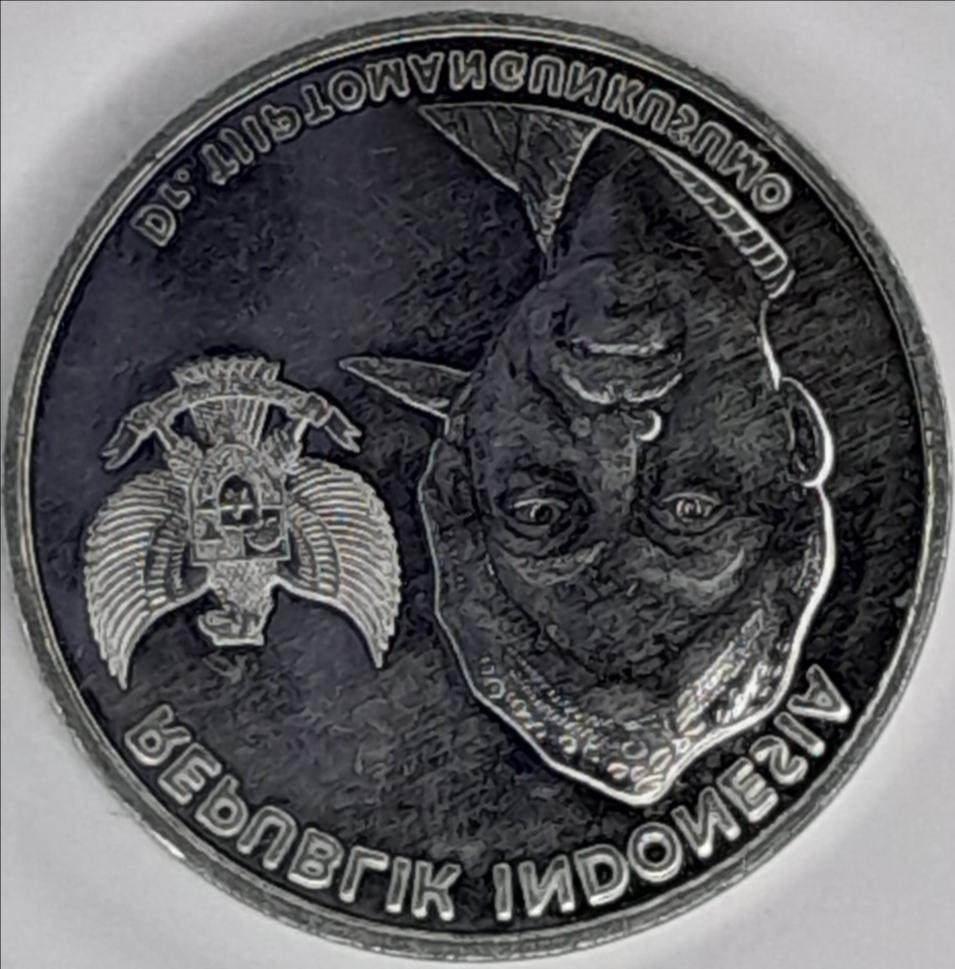coin_200_e2016: (0, 17, 955, 969)
